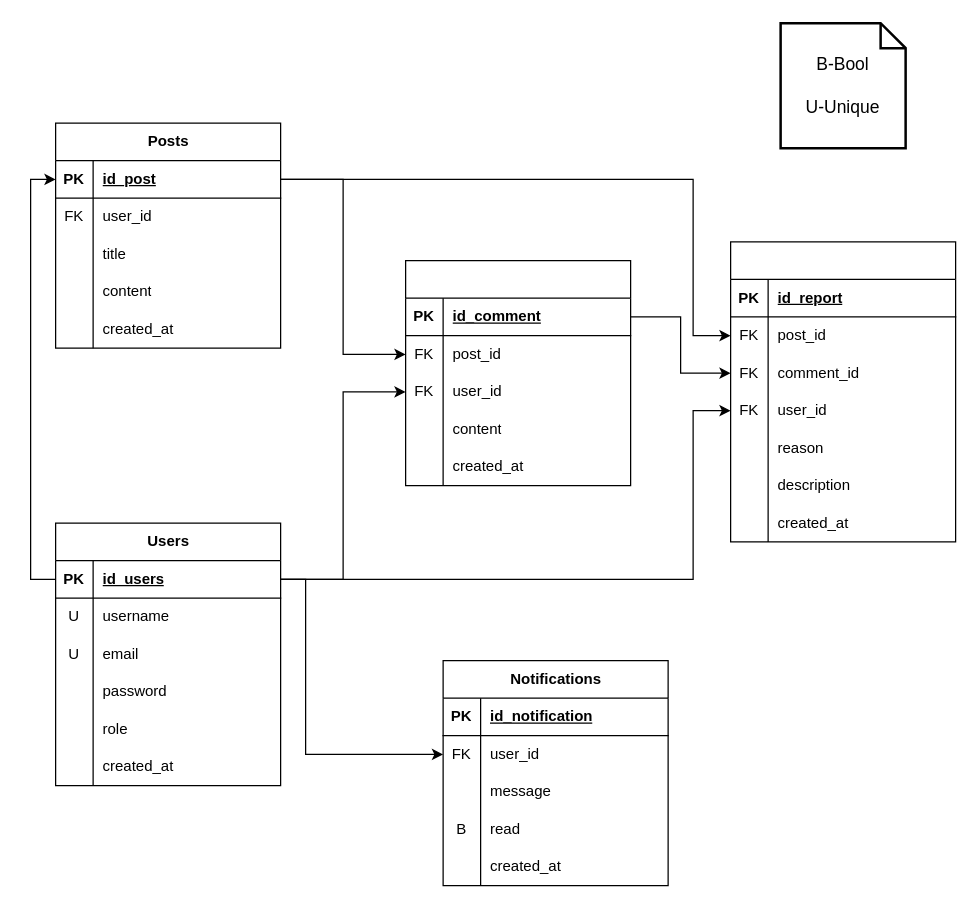
Image size: 978x908. Some labels were removed from this diagram. Each missing label, with the box of its shape:
Comments: (404, 259, 631, 486)
Reports: (729, 241, 956, 542)
